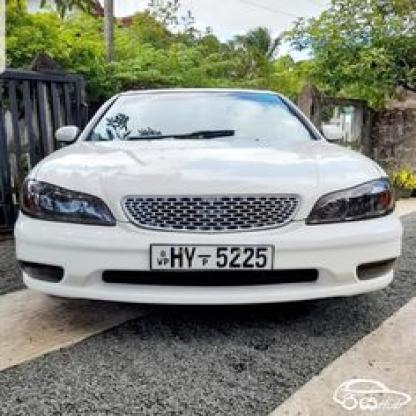car front: (8, 86, 412, 306)
number plate: (152, 246, 272, 268)
